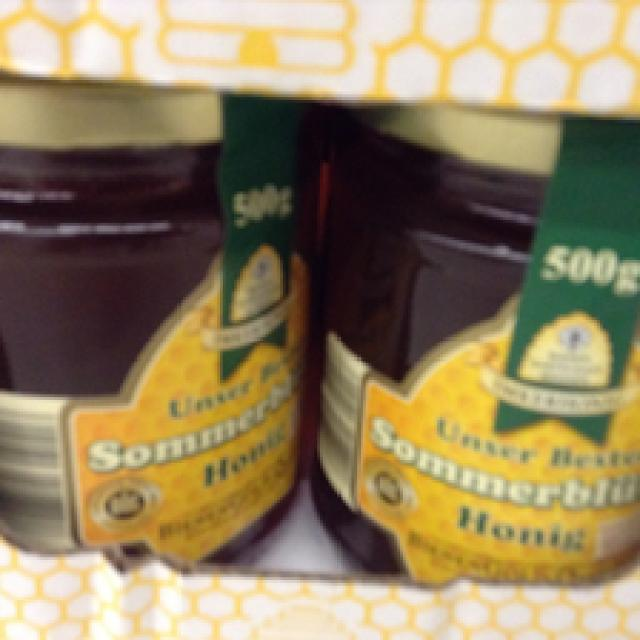groceries: (0, 77, 311, 582), (326, 109, 637, 588)
